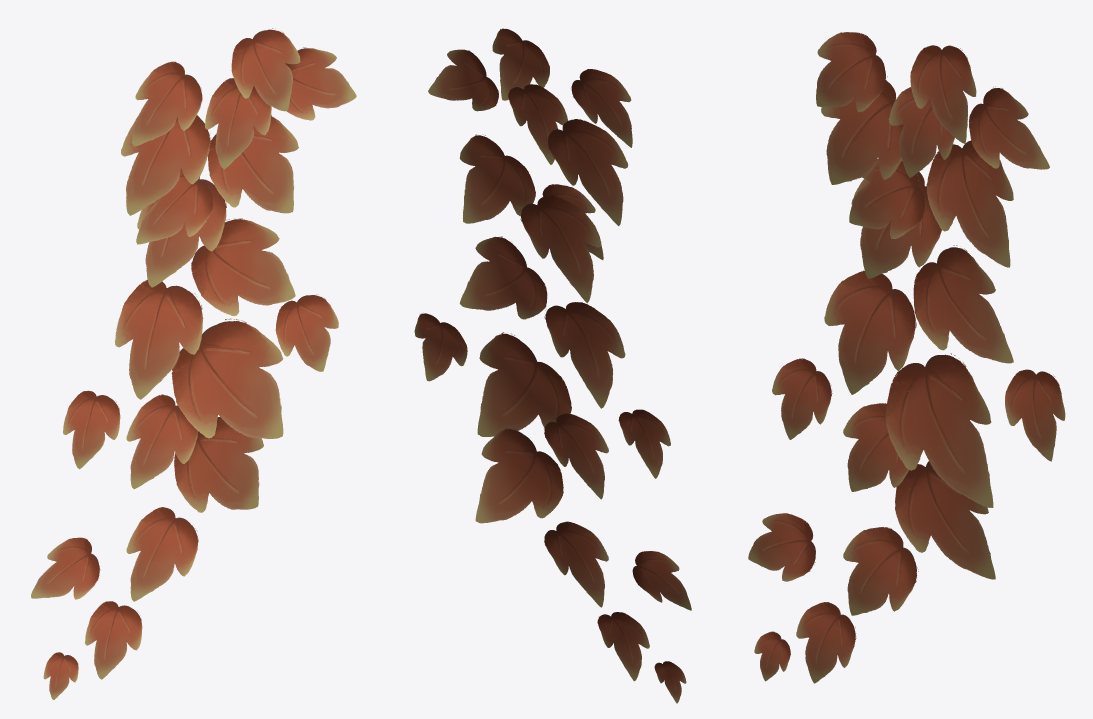
Rendered from Vines_01.FBX.
The picture shows the model from 3 angles, left to right: view 1: azimuth 30°, elevation 25°; view 2: azimuth 150°, elevation 25°; view 3: azimuth 330°, elevation 25°; orthographic projection. The views are drawn at different scales.
Parts seen in each view (by area): view 1: Plane017; view 2: Plane017; view 3: Plane017.
Boxes of the visible parts, x1,y1,x2,y2 form: Plane017: (31,28,356,699); Plane017: (414,28,691,703); Plane017: (748,32,1065,683).
Size of the model in its own units: 8.72 by 1.56 by 16.48.
